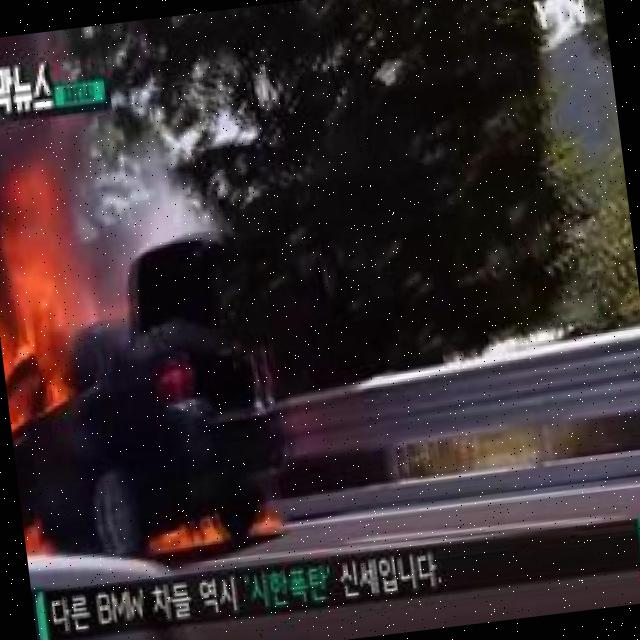fire: (0, 138, 103, 416), (132, 495, 312, 561), (20, 500, 68, 557)
